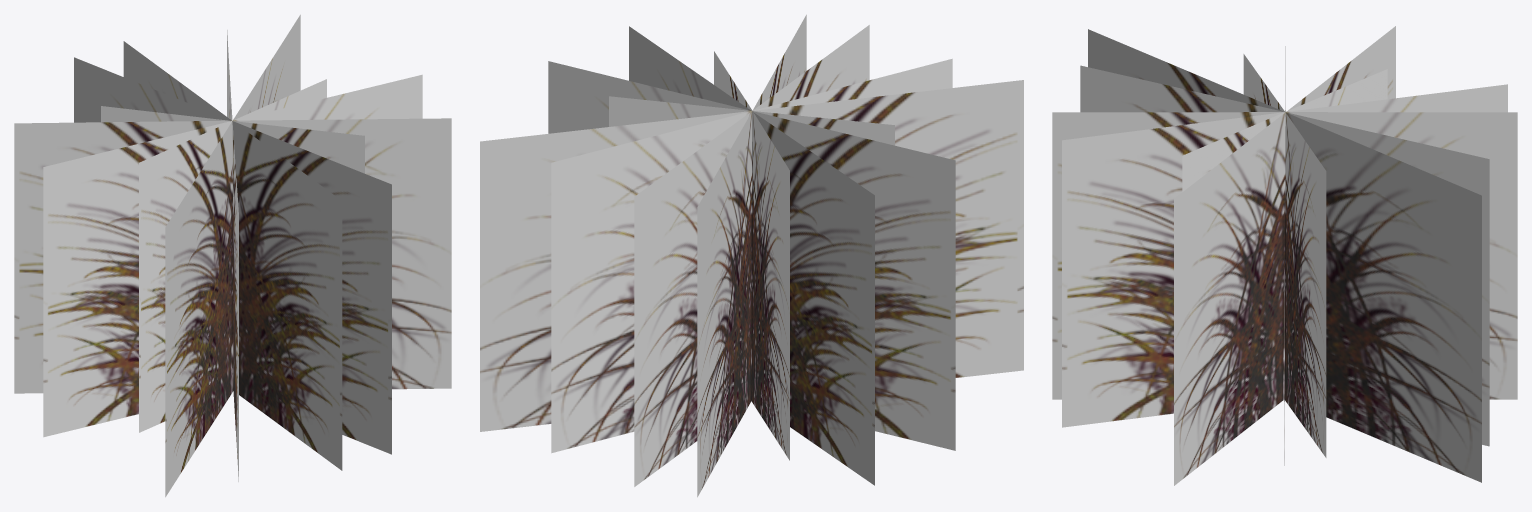
File: Model_Plant_12.fbx
The picture shows the model from 3 angles, left to right: view 1: azimuth 30°, elevation 25°; view 2: azimuth 150°, elevation 25°; view 3: azimuth 270°, elevation 25°; orthographic projection. The views are drawn at different scales.
Visible parts, largest first — view 1: DGrass4; view 2: DGrass4; view 3: DGrass4.
Boxes of the visible parts, x1=… form: DGrass4: x1=14, y1=14, x2=451, y2=497; DGrass4: x1=480, y1=14, x2=1023, y2=497; DGrass4: x1=1052, y1=26, x2=1517, y2=485.
Size of the model in its own units: 80.62 by 54.92 by 80.62.
